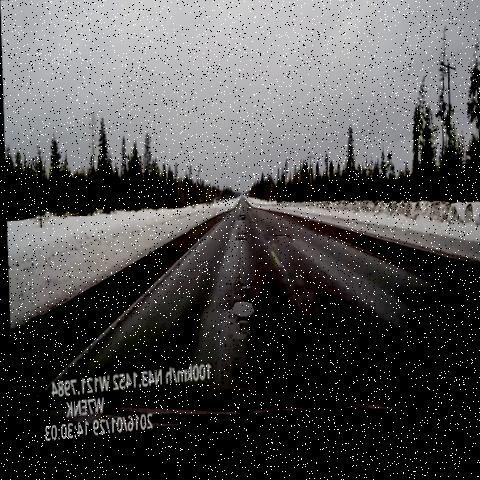pothole: (220, 285, 263, 344), (226, 224, 255, 255), (231, 207, 248, 232), (268, 236, 291, 252)
